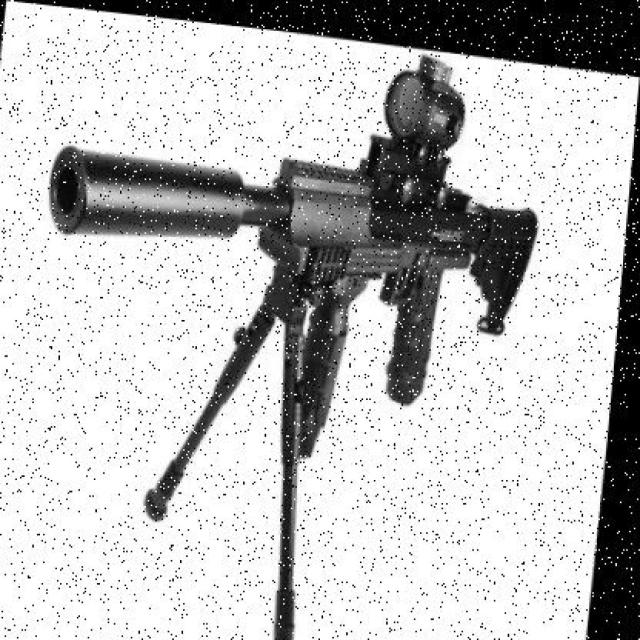weapon: (48, 54, 540, 640)
